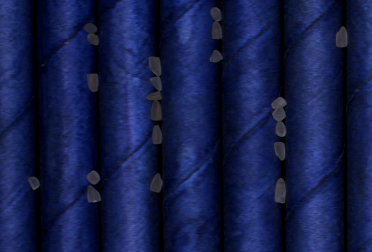broken_grain: (273, 176, 287, 207), (335, 24, 349, 51), (86, 184, 103, 204), (272, 140, 287, 162), (84, 168, 102, 186), (151, 124, 164, 148), (148, 55, 162, 77), (149, 173, 163, 195), (210, 20, 224, 42), (86, 71, 99, 93), (269, 96, 288, 110), (208, 6, 223, 22), (208, 50, 223, 66), (275, 120, 287, 140), (27, 173, 41, 190), (149, 76, 163, 93), (271, 108, 286, 122), (87, 33, 101, 47)
yellow_grain: (148, 100, 164, 122), (145, 90, 166, 103)
